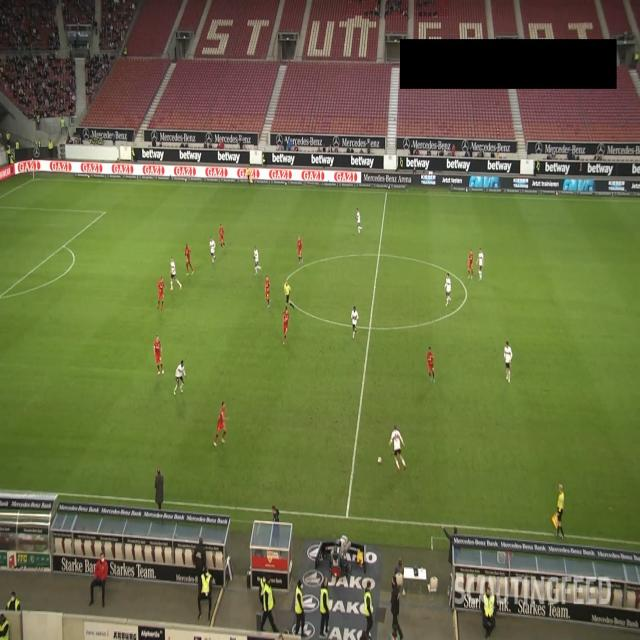ball: (377, 456, 382, 465)
